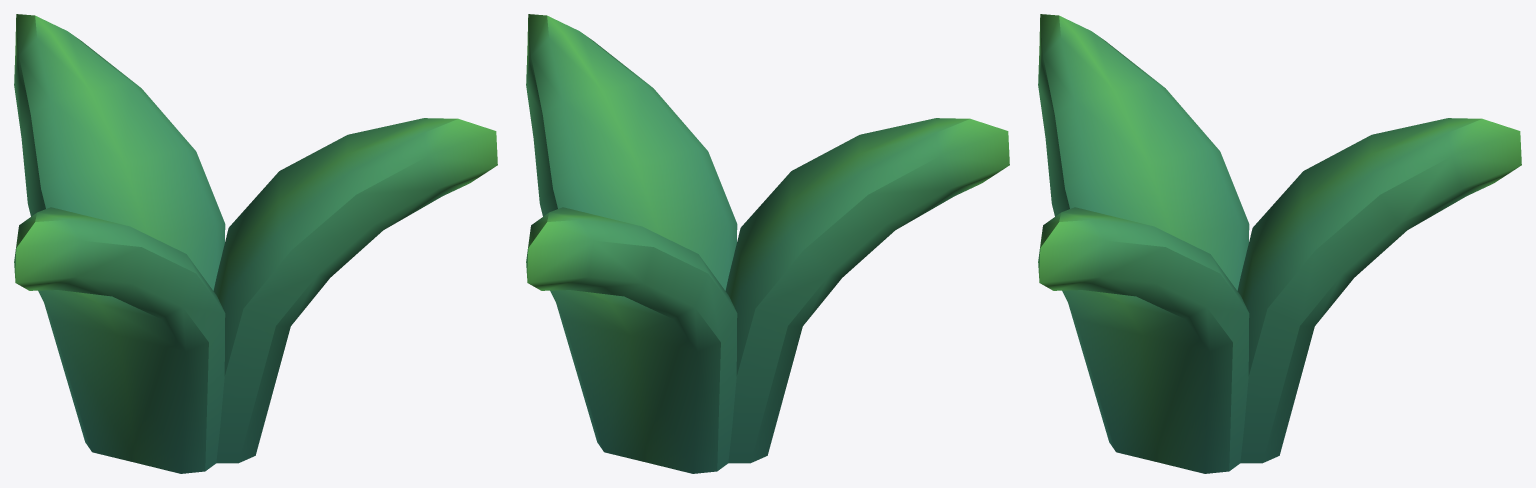
Rendered from Grass A.glb.
The picture shows the model from 3 angles, left to right: view 1: azimuth 30°, elevation 25°; view 2: azimuth 150°, elevation 25°; view 3: azimuth 270°, elevation 25°; orthographic projection.
Parts seen in each view (by area): view 1: grass_A; view 2: grass_A; view 3: grass_A.
Part boxes in pixels (x1,y1,x2,y2): grass_A: [14, 14, 497, 473]; grass_A: [526, 14, 1009, 473]; grass_A: [1038, 14, 1521, 473].
Size of the model in its own units: 0.6439 by 0.4022 by 0.5592.
Materials: 1 (1 with a texture image).
